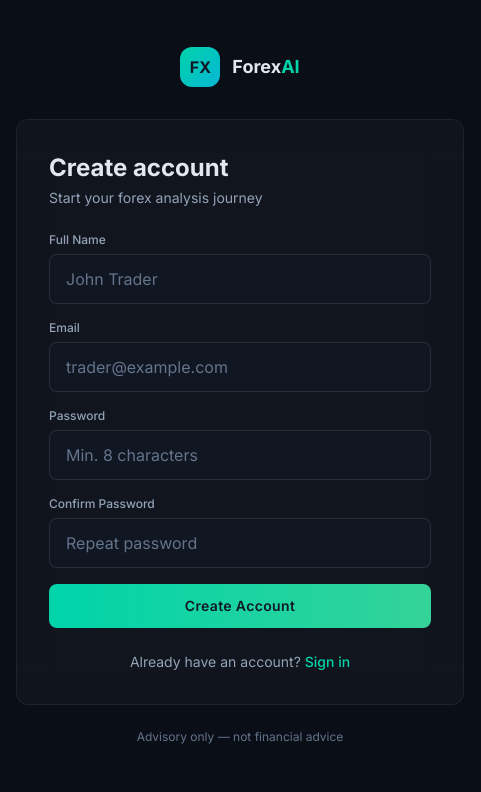
Test: auth flow › register: rejects passwords shorter than 8 characters
The image size is (481, 792).
Type "Jane" into the field with placeholder "John Trader".
click(240, 279); type("Jane")  # box [49,254,431,304]
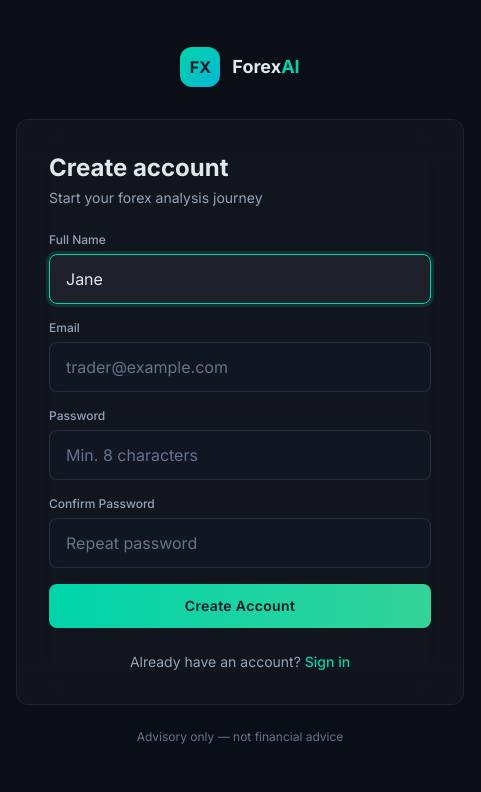
Type "jane@example.com" into the field with placeholder "trader@example.com".
click(240, 367); type("jane@example.com")  # box [49,342,431,392]
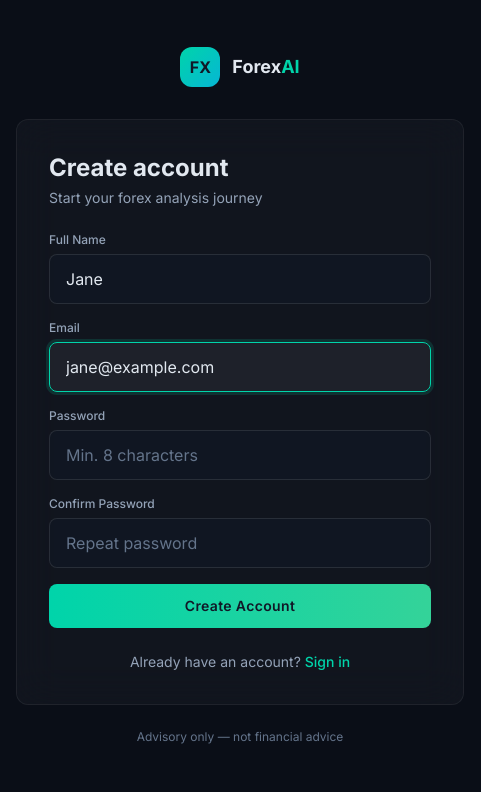
Type "short" into the password field with placeholder "Min. 8 characters".
click(240, 455); type("short")  # box [49,430,431,480]
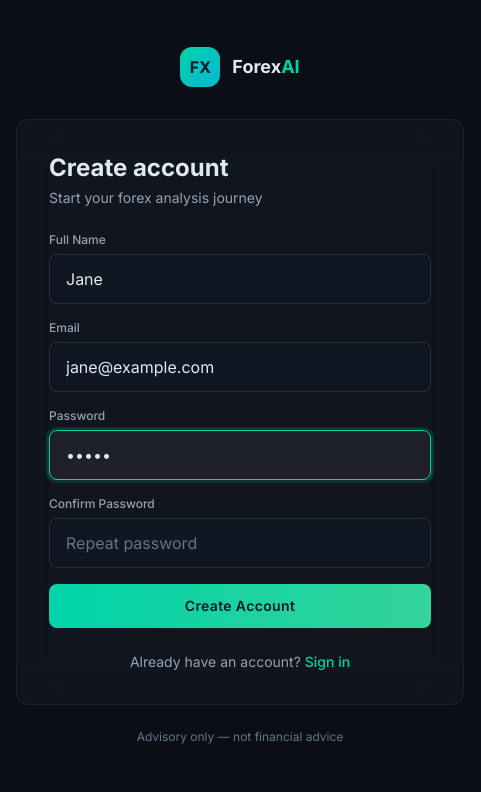
Type "short" into the password field with placeholder "Repeat password".
click(240, 543); type("short")  # box [49,518,431,568]
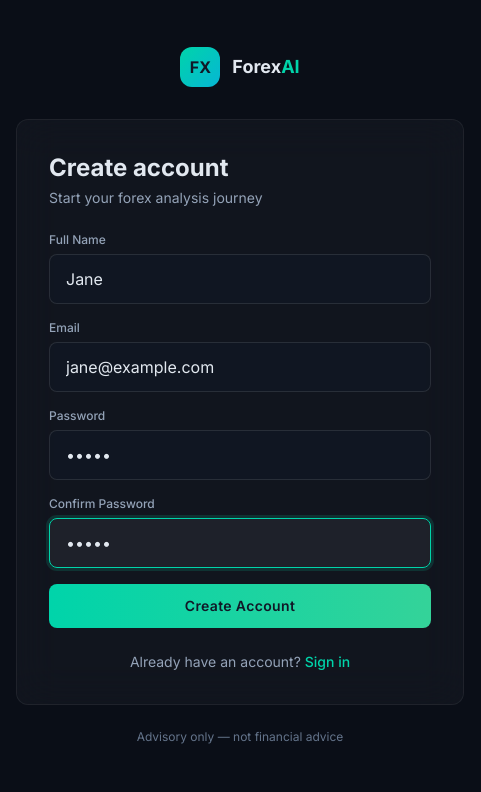
Click the button "Create Account".
click(240, 606)  # box [49,584,431,628]
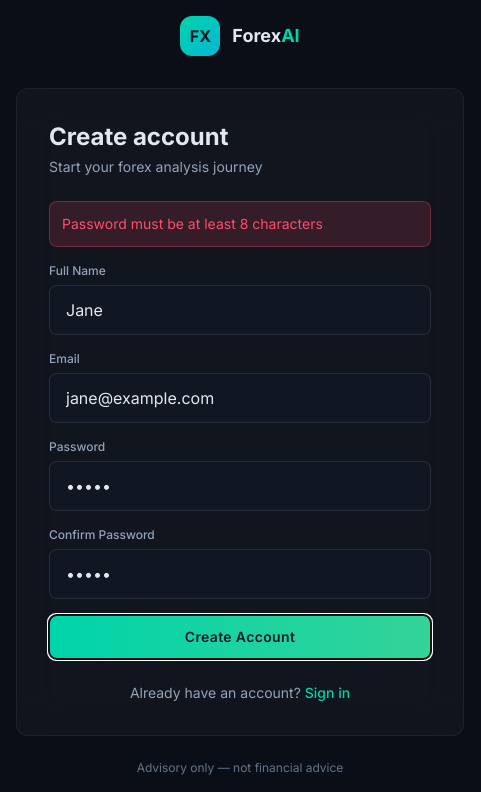
Check: the text "Password must be at least 8 characters" is shown, box [49,201,431,247]
